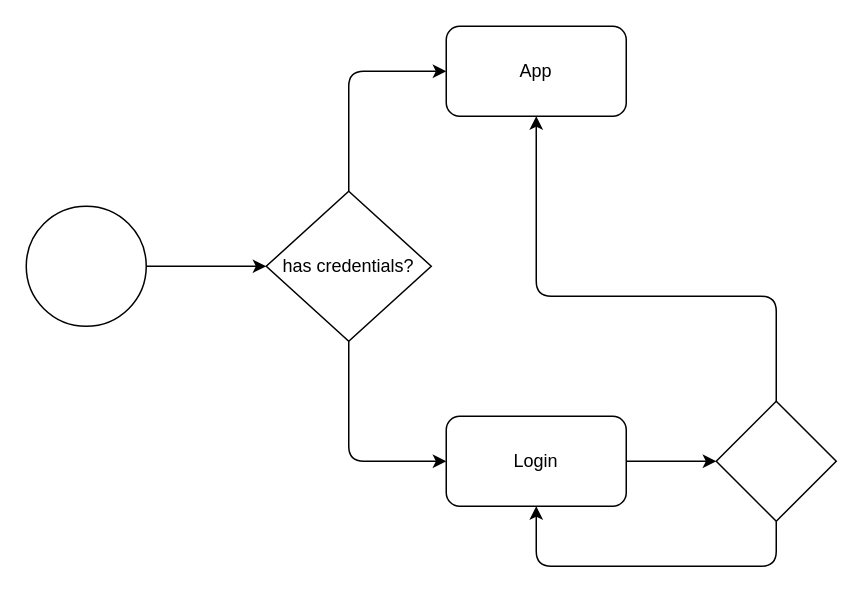
Some shapes in this 863 by 605 pixel diagram are drawn without their labels. Here are the shapes that lost their labels. From the top down, the centre of each, then its label:
point 85,265: start
point 775,460: conected?
